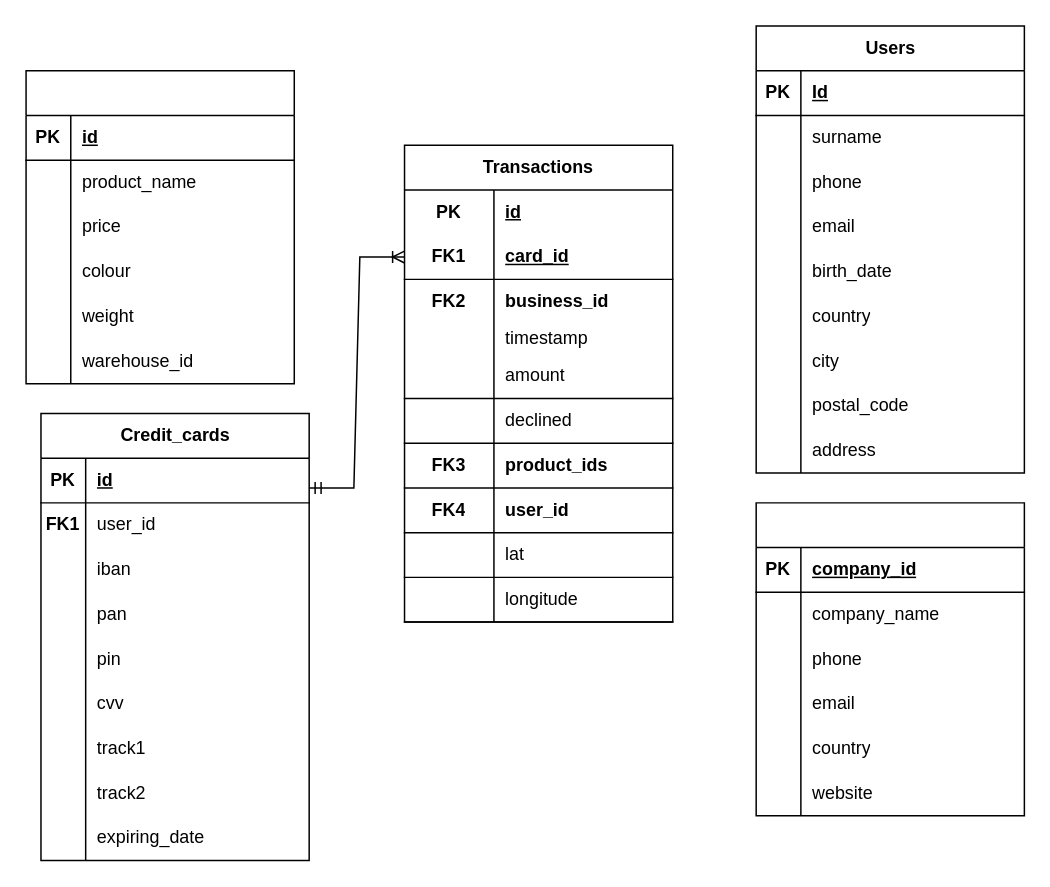
The diagram is 1050 pixels wide and 887 high, and some of its shapes have lost their labels. The shapes that lost their labels are listed below. From the top down, each one's box as (x1, y1, x2, y2) in pixels, then its label:
(25, 69, 294, 384): Products
(755, 501, 1024, 816): Companies
